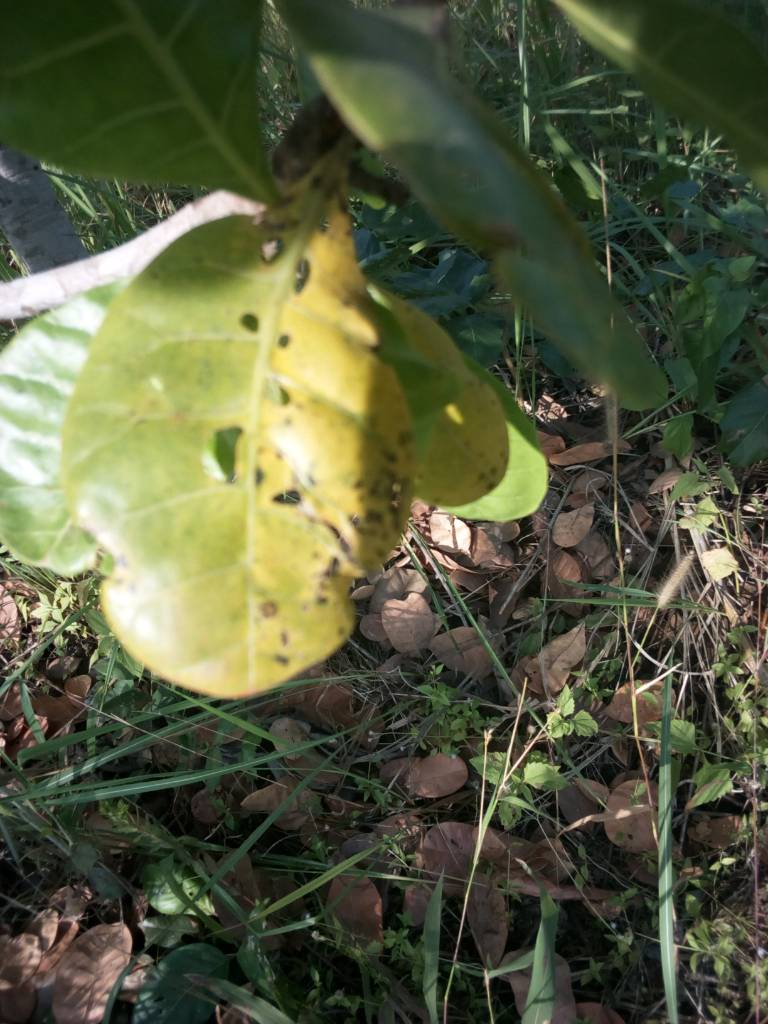Bactériose: (69, 213, 404, 692)
